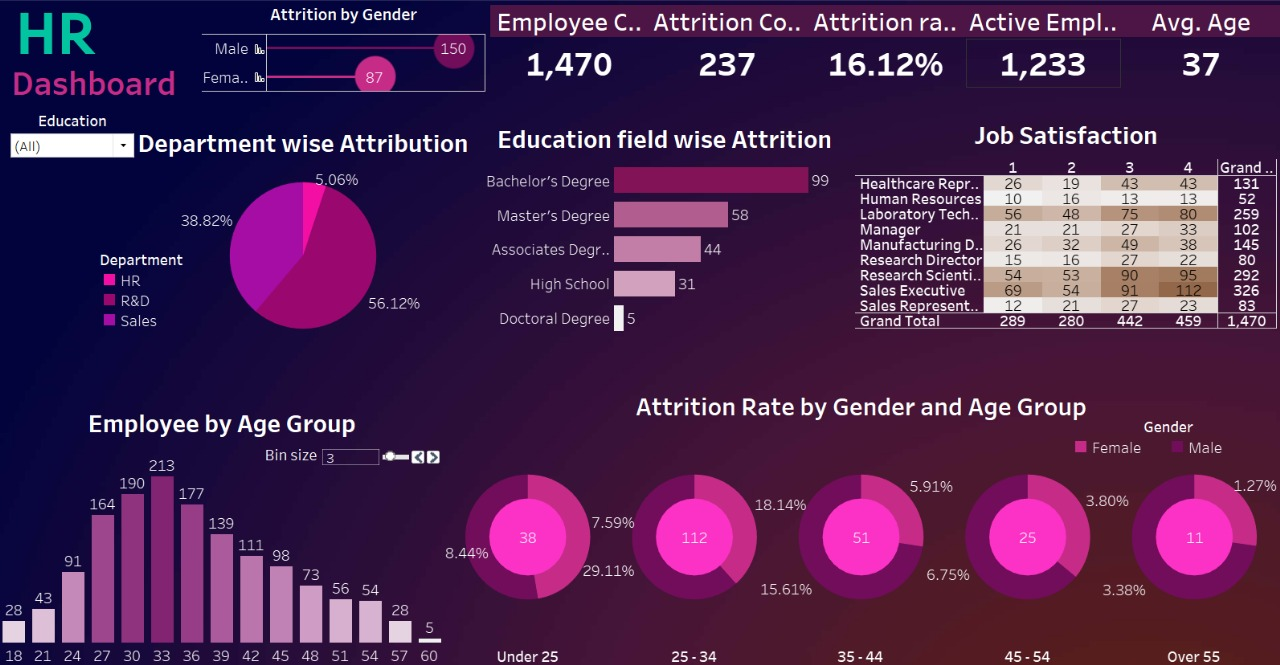

This screenshot's page, from the dashboard's own definition file:
{"tool":"tableau","page":{"name":"HR Analytics Dashboard","canvas":[1580,866],"ordinal":0},"visuals":[{"type":"worksheet","title":"Attrition by Gender","mark":"Automatic","rows":["Gender"],"cols":["Calculation_1450722034720907264","Calculation_1450722034720907264"],"box":[258,30,353,115]},{"type":"filter","title":"Education field wise Attrition","param":"[federated.0redypl09ipj4y1eohmsf0ovauxa].[none:Education:nk]","box":[17,168,160,93]},{"type":"worksheet","title":"Education field wise Attrition","mark":"Automatic","rows":["Education"],"cols":["Calculation_1450722034720907264"],"box":[611,178,446,270]},{"type":"worksheet","title":"Departmwnt wise Attrition","mark":"Pie","box":[162,183,444,276]},{"type":"legend","title":"Departmwnt wise Attrition","param":"[federated.0redypl09ipj4y1eohmsf0ovauxa].[none:Department:nk]","box":[131,341,122,110]},{"type":"worksheet","title":"Employee by Age","mark":"Bar","rows":["Employee Count"],"cols":["Age (bin)"],"box":[6,532,554,328]},{"type":"legend","title":"Attrition Rate by Gender and Age Group","param":"[federated.0redypl09ipj4y1eohmsf0ovauxa].[none:Gender:nk]","box":[1340,549,242,60]},{"type":"parameter","param":"[Parameters].[Parameter 1]","box":[333,587,224,47]}]}

Visuals, with their boxes on the page's 1580x866 design canvas (x1, y1, x2, y2). These are canvas units, not pixel positions in the 1280x665 screenshot, which may show the page scaled, cropped or inside an application window:
"Attrition by Gender" worksheet: box=[258, 30, 611, 145]
"Education field wise Attrition" filter: box=[17, 168, 177, 261]
"Education field wise Attrition" worksheet: box=[611, 178, 1057, 448]
"Departmwnt wise Attrition" worksheet (Pie marks): box=[162, 183, 606, 459]
"Departmwnt wise Attrition" legend: box=[131, 341, 253, 451]
"Employee by Age" worksheet (Bar marks): box=[6, 532, 560, 860]
"Attrition Rate by Gender and Age Group" legend: box=[1340, 549, 1582, 609]
parameter: box=[333, 587, 557, 634]
